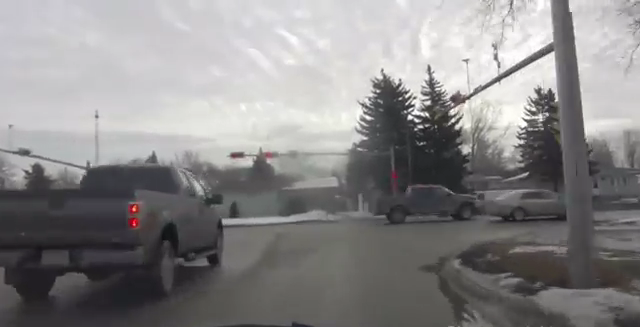car: (1, 163, 226, 299), (370, 182, 478, 224), (486, 189, 581, 220)
